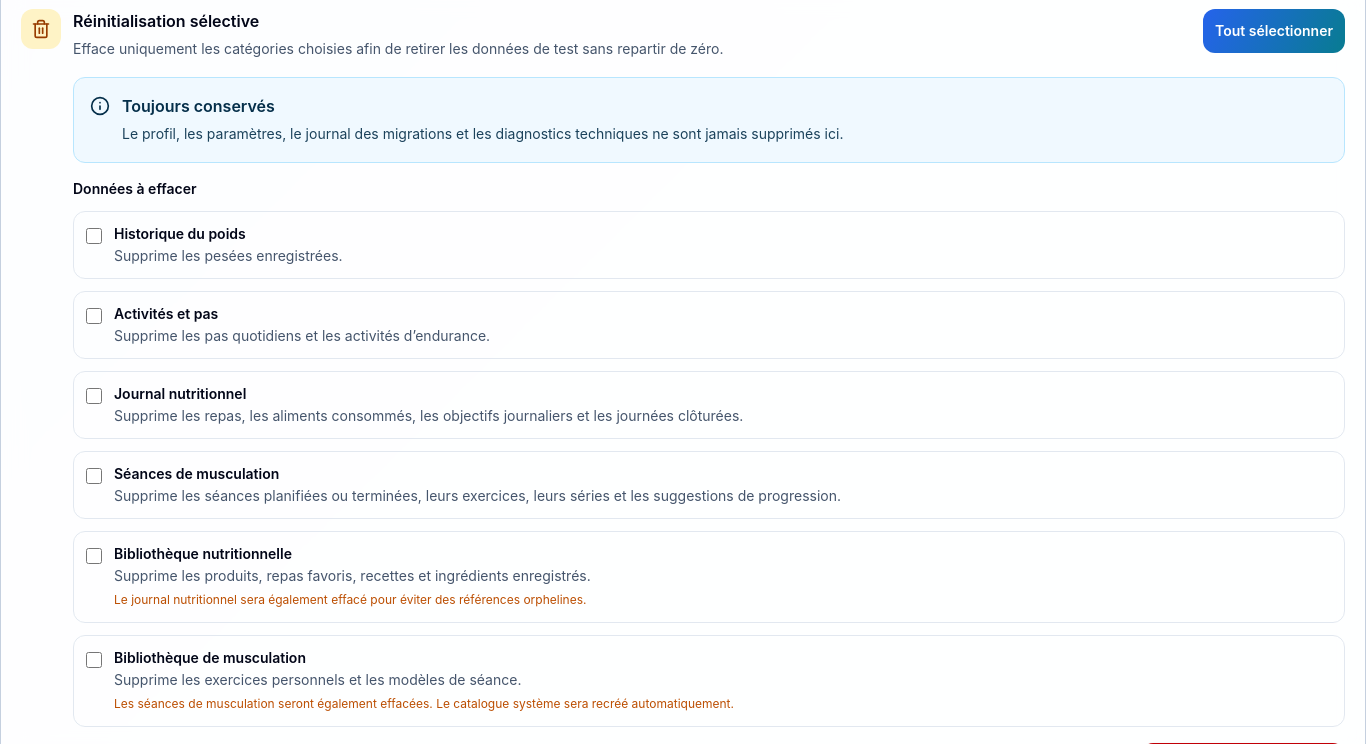
Scenario: SelectiveDataResetPanel › annonce les dépendances ajoutées automatiquement
Click the checkbox labelled "Bibliothèque nutritionnelle" at (94, 556), box [86, 548, 102, 564]
(page scrolled)
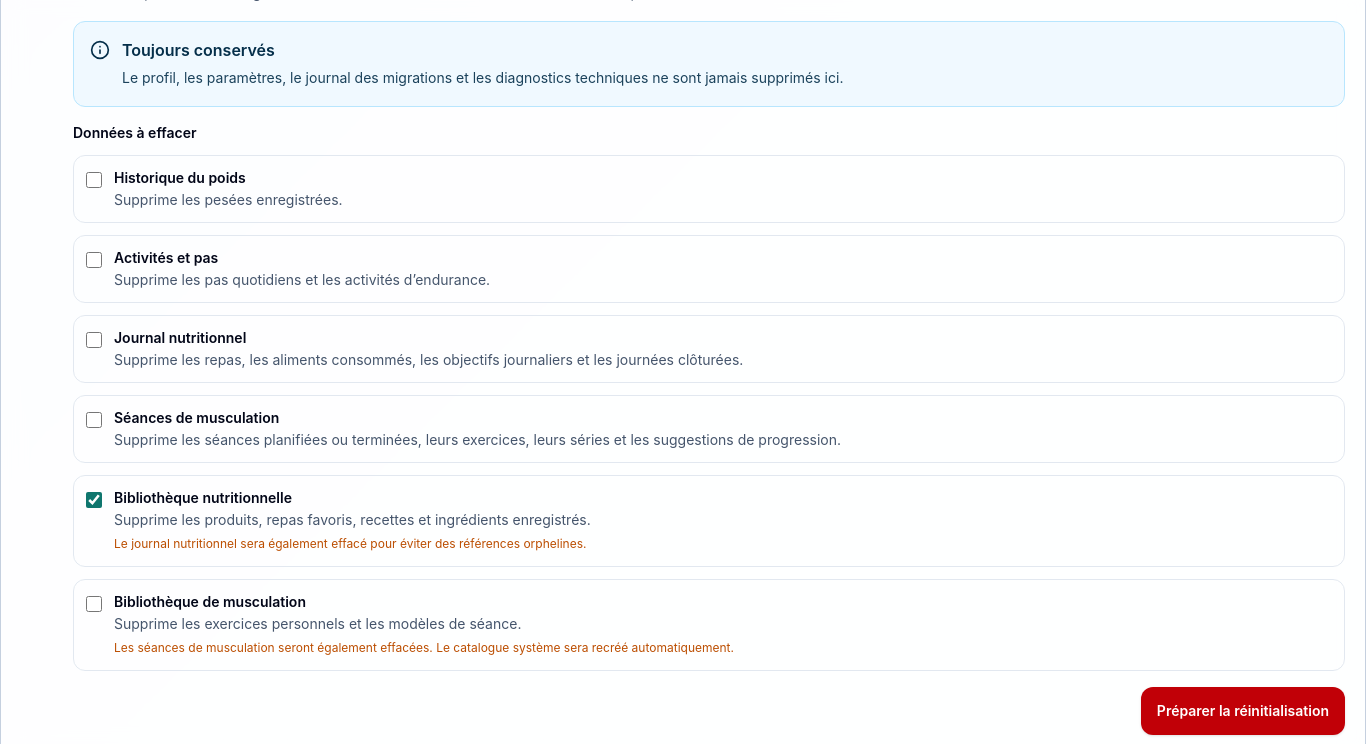
Click the button "Préparer la réinitialisation" at (1243, 711), box [1141, 687, 1345, 735]
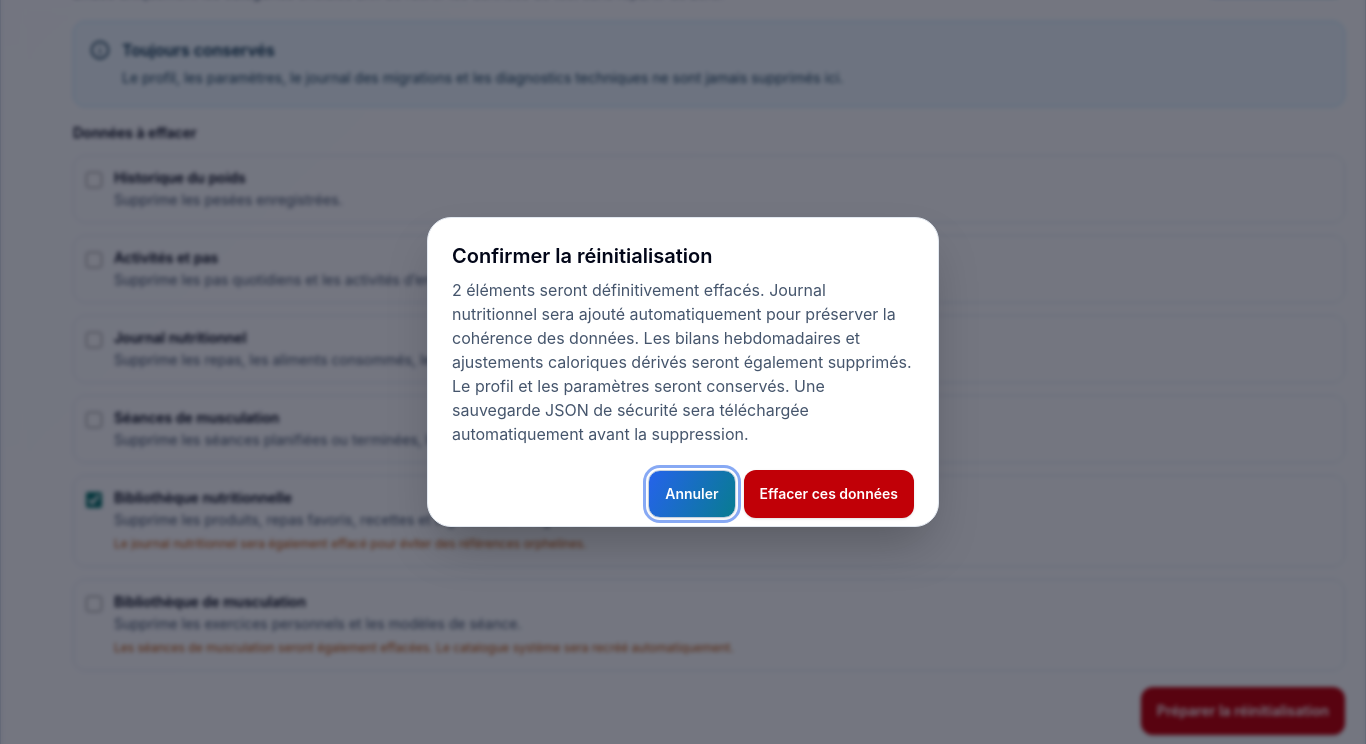
Expected: the text "Journal nutritionnel sera ajouté automatiquement" is shown, [452, 280, 912, 444]
